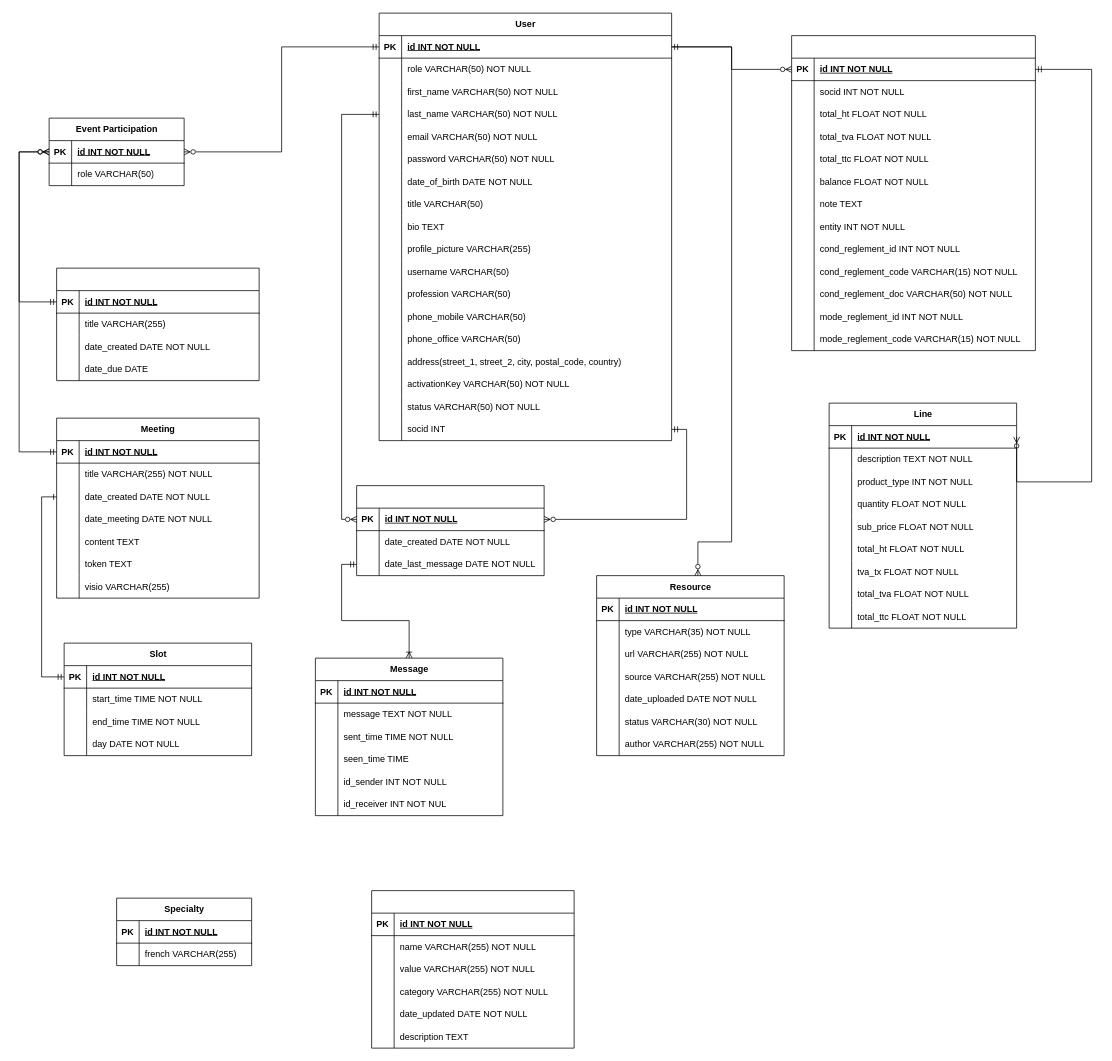
This 1112x1061 diagram has some shape labels left out. Here are the shapes that lost their labels. From the top down, the box of each, then its label:
(791, 35, 1035, 351): Invoice
(56, 267, 259, 381): Task
(356, 485, 544, 576): Conversation
(371, 890, 574, 1048): Param
